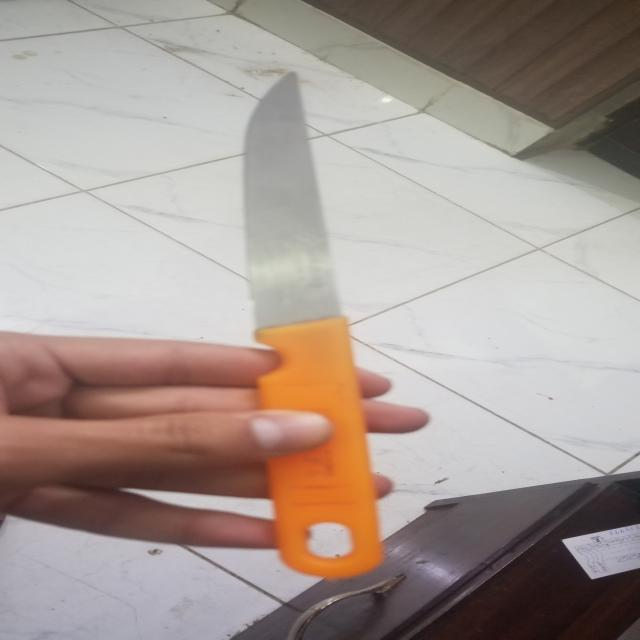weapon: (230, 66, 392, 572)
